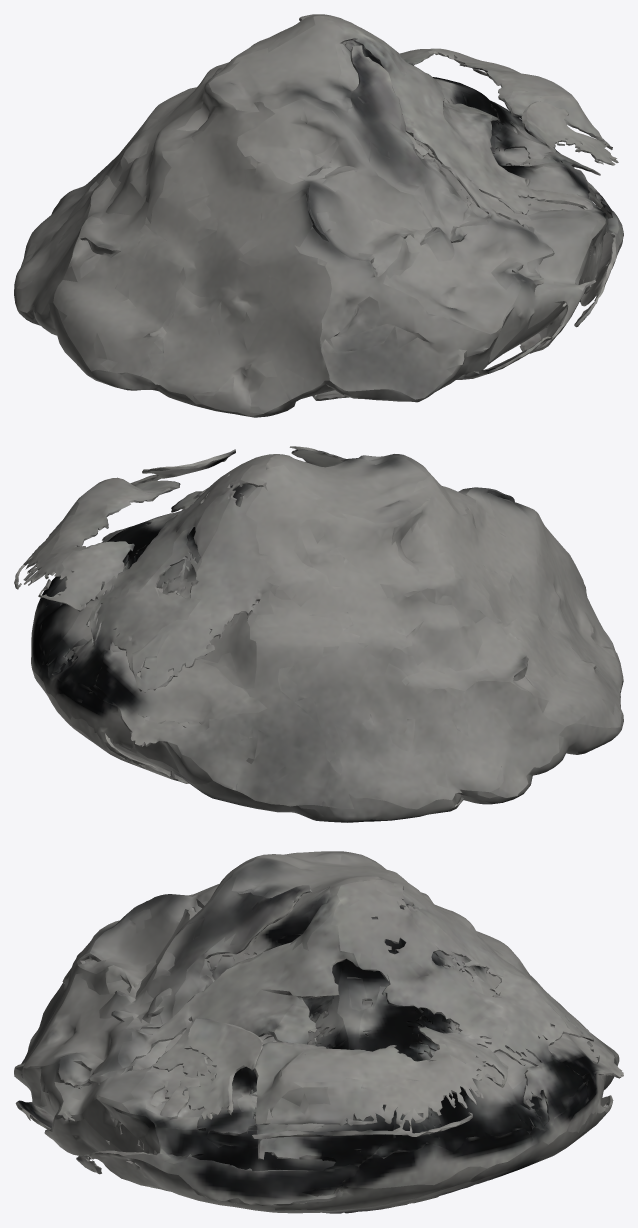
3 views of the same model, one above another, from view 1: azimuth 30°, elevation 25°; view 2: azimuth 150°, elevation 25°; view 3: azimuth 270°, elevation 25° (orthographic).
Visible parts, largest first — view 1: world; view 2: world; view 3: world.
Part boxes in pixels (box(x1,y1,x2,y2)): world: box(14, 14, 623, 417); world: box(14, 446, 623, 822); world: box(14, 851, 623, 1213).
Size of the model in its own units: 0.45 by 0.2085 by 0.4503.
Materials: 1 (1 with a texture image).
